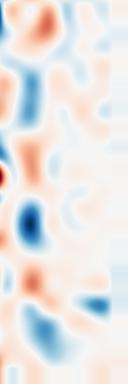filament: (9, 127, 56, 197)
